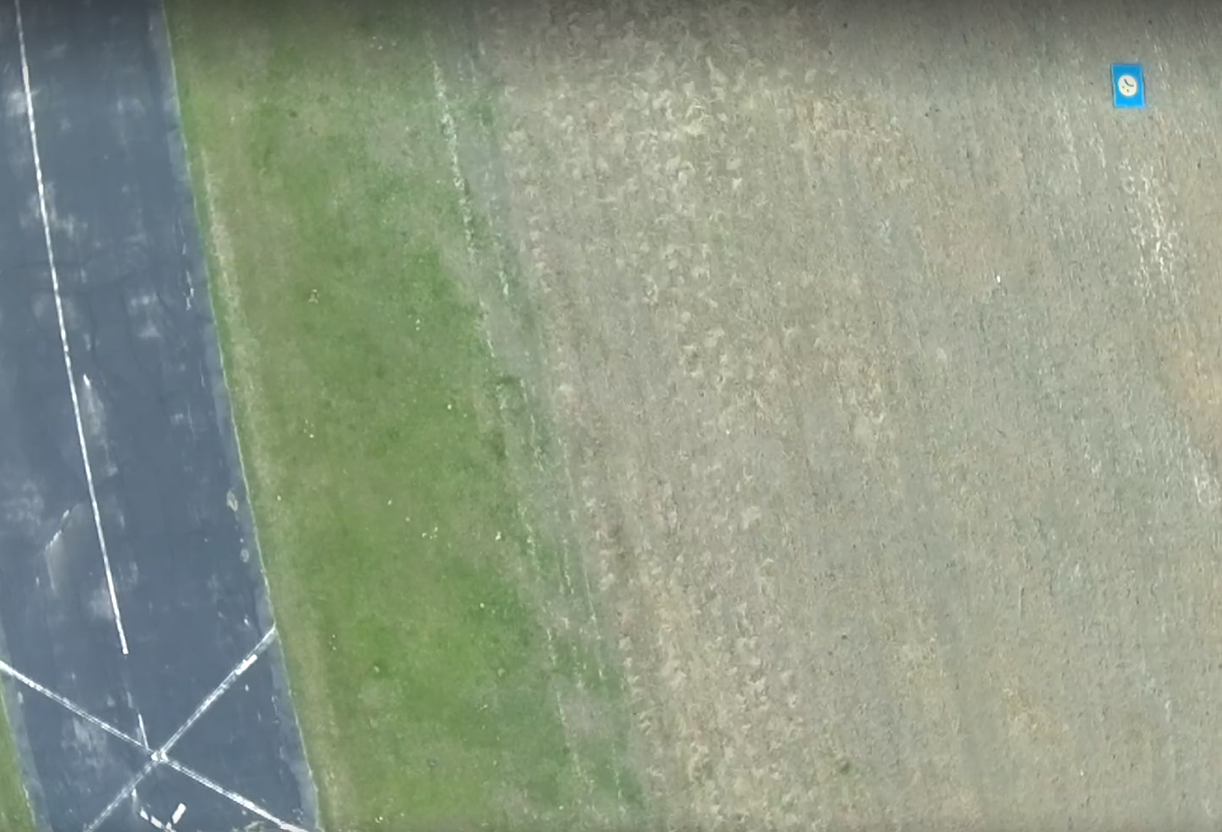CRT: (1115, 74, 1140, 96)
TOI: (1109, 62, 1147, 108)
